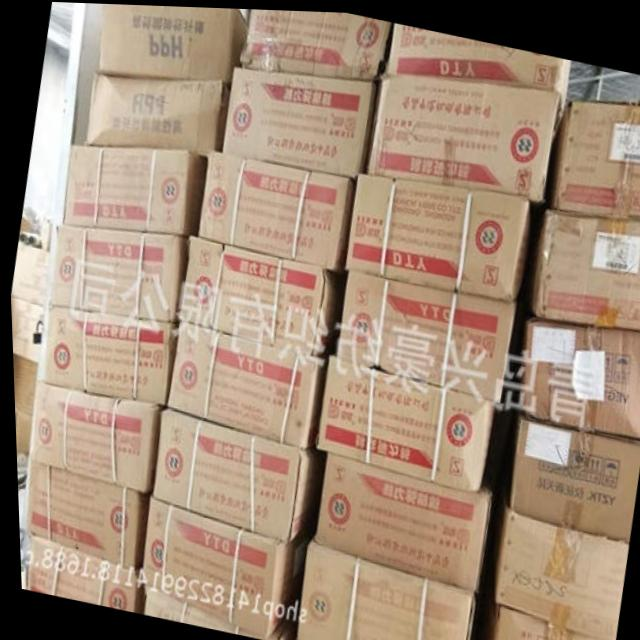box: (137, 494, 315, 639), (311, 352, 491, 489), (365, 69, 559, 196), (311, 450, 488, 589), (342, 168, 529, 299), (147, 406, 325, 542), (332, 268, 514, 400), (161, 320, 325, 446), (291, 533, 471, 640), (175, 234, 333, 354), (194, 149, 354, 267), (489, 504, 625, 640), (220, 64, 378, 173), (506, 410, 640, 537), (385, 20, 571, 106), (516, 314, 640, 438), (26, 380, 161, 493), (24, 459, 146, 573), (61, 142, 206, 237), (50, 222, 186, 322), (529, 205, 640, 326), (41, 304, 176, 403), (84, 71, 230, 151), (100, 3, 248, 80), (552, 92, 640, 214), (238, 7, 391, 76), (22, 533, 137, 613), (138, 586, 264, 639), (481, 602, 610, 640), (10, 355, 35, 457), (8, 244, 46, 306), (9, 296, 44, 363)
